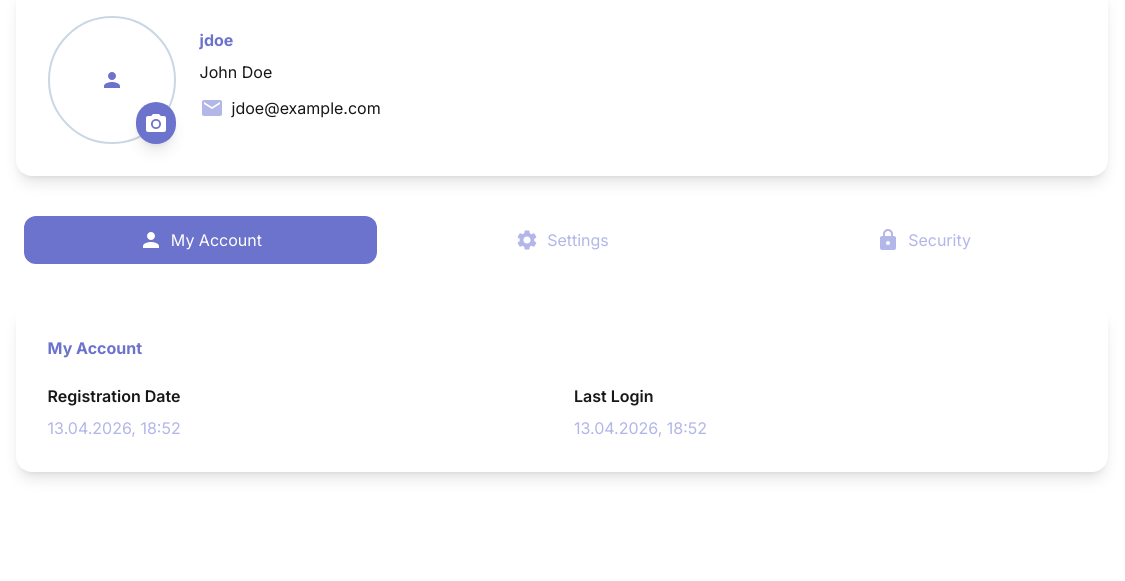
Scenario: Profile page › renders user info and allows switching tabs
Check: the heading "jdoe" is shown, box x1=200 y1=30 x2=233 y2=50
Check: the heading "My Account" is shown, box x1=48 y1=338 x2=142 y2=358
What coordinates should you click on to do the following:
click the button "Settings"
I would click on:
 (562, 240)
Its box is x1=385 y1=216 x2=739 y2=264.
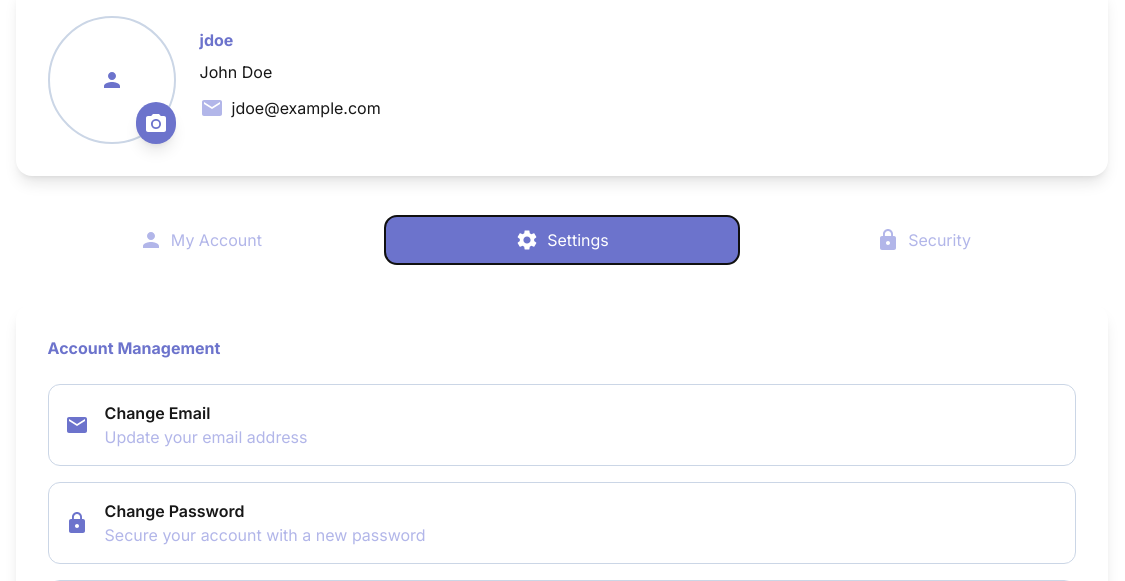
Check: the heading "Account Management" is shown, box x1=48 y1=338 x2=220 y2=358
